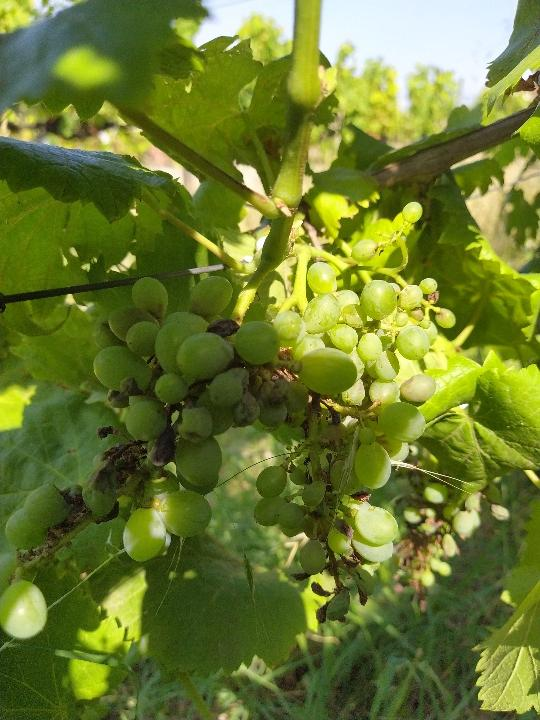grape: (4, 249, 438, 643)
